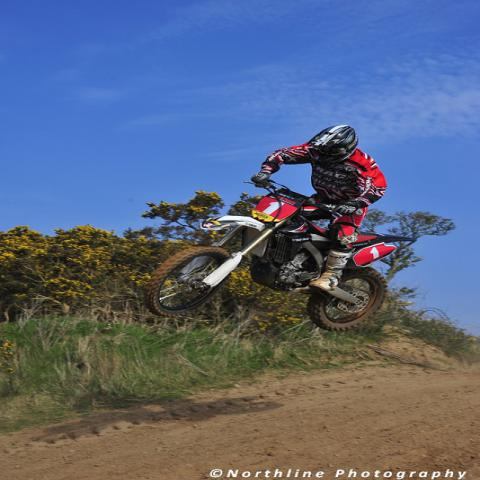motorcycle: (143, 178, 409, 333)
